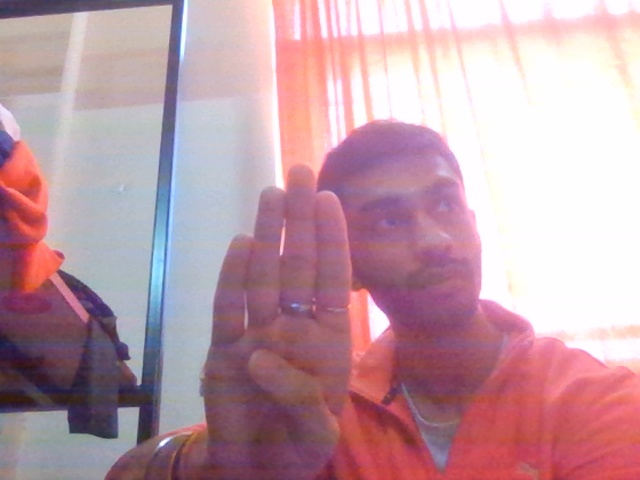B: (196, 157, 362, 480)
